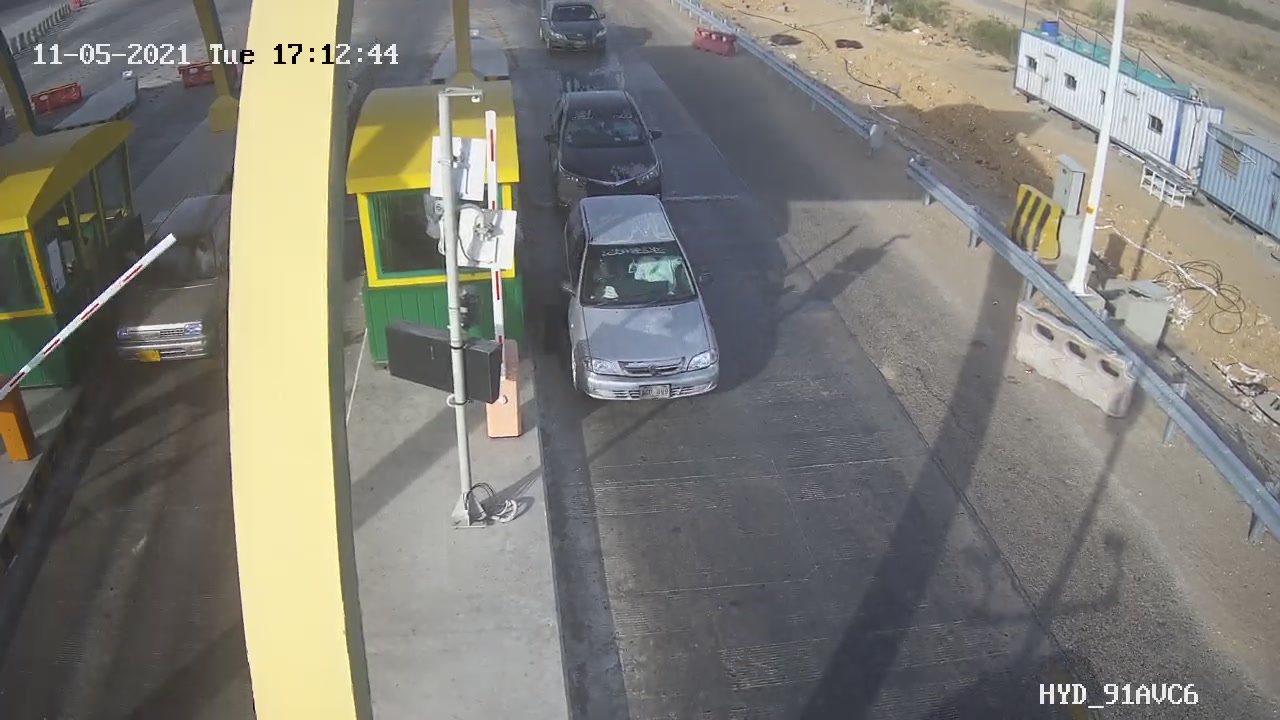F1: (547, 187, 744, 414), (530, 83, 678, 220)
